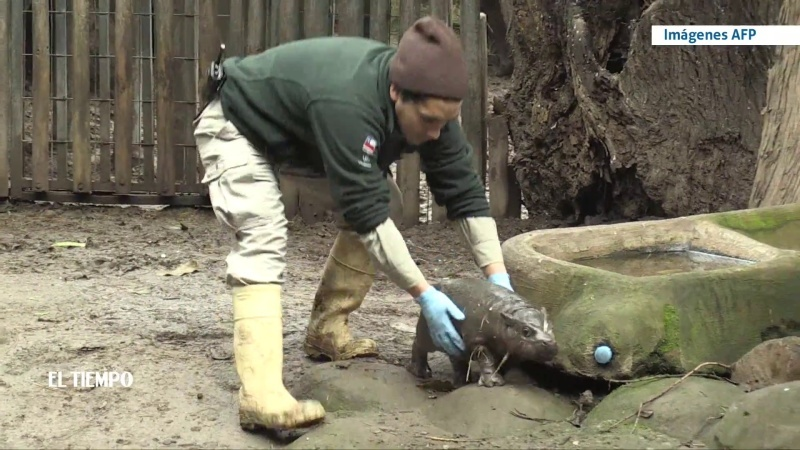hipopotamo: (408, 270, 565, 406)
